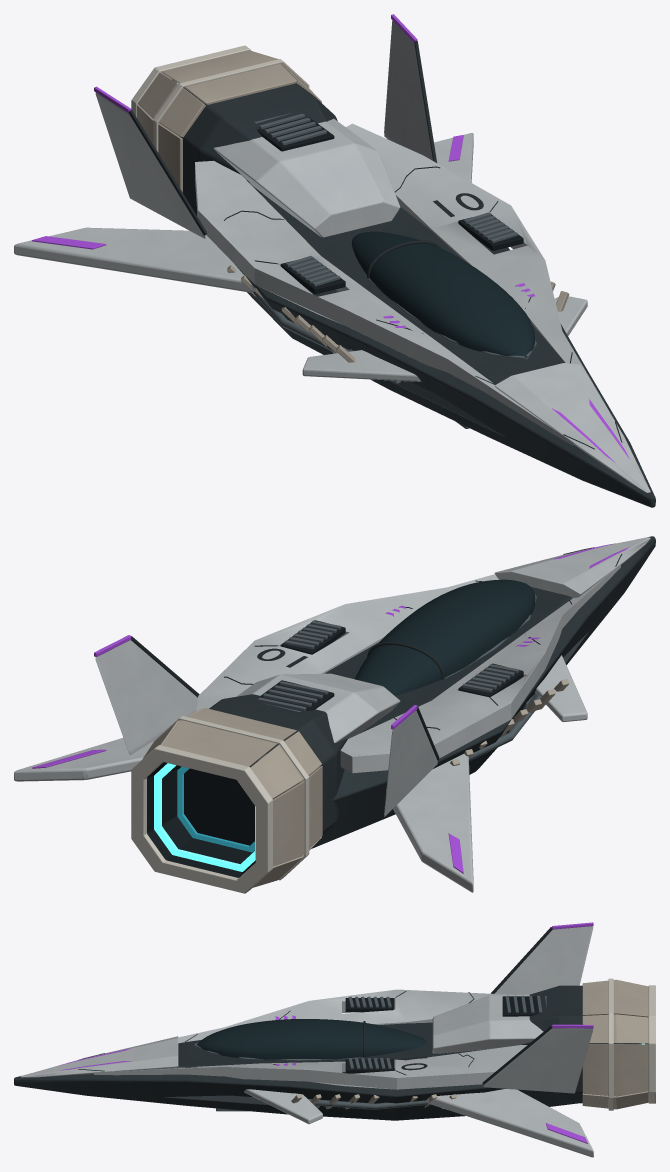
File: needle.glb
3 renders of one model, top to bottom at view 1: azimuth 30°, elevation 25°; view 2: azimuth 150°, elevation 25°; view 3: azimuth 270°, elevation 25°, orthographic. The views are drawn at different scales.
Visible parts, largest first — view 1: needle_Ceramic_Geometry, needle_carbon_Geometry, needle_Glass_Geometry, needle_metal_Geometry, needle_darkmetal_Geometry, needle_edge_Geometry, needle_machined_Geometry, needle_vent_Geometry, needle_accent_Geometry; view 2: needle_Ceramic_Geometry, needle_carbon_Geometry, needle_metal_Geometry, needle_Glass_Geometry, needle_vent_Geometry, needle_machined_Geometry, needle_darkmetal_Geometry, needle_Power_Geometry, needle_accent_Geometry, needle_edge_Geometry, needle_Standby_Geometry; view 3: needle_Ceramic_Geometry, needle_carbon_Geometry, needle_metal_Geometry, needle_Glass_Geometry, needle_darkmetal_Geometry, needle_machined_Geometry, needle_vent_Geometry, needle_edge_Geometry, needle_accent_Geometry.
Part boxes in pixels (bbox=[...]): needle_Ceramic_Geometry: bbox=[14, 20, 650, 492]; needle_carbon_Geometry: bbox=[160, 83, 655, 507]; needle_Glass_Geometry: bbox=[351, 231, 535, 358]; needle_metal_Geometry: bbox=[137, 50, 569, 362]; needle_darkmetal_Geometry: bbox=[253, 113, 536, 436]; needle_edge_Geometry: bbox=[128, 41, 622, 449]; needle_machined_Geometry: bbox=[131, 45, 309, 152]; needle_vent_Geometry: bbox=[172, 79, 523, 294]; needle_accent_Geometry: bbox=[32, 14, 629, 462]; needle_Ceramic_Geometry: bbox=[14, 537, 650, 892]; needle_carbon_Geometry: bbox=[209, 536, 655, 848]; needle_metal_Geometry: bbox=[143, 679, 569, 887]; needle_Glass_Geometry: bbox=[355, 579, 535, 695]; needle_vent_Geometry: bbox=[147, 620, 523, 877]; needle_machined_Geometry: bbox=[131, 715, 309, 893]; needle_darkmetal_Geometry: bbox=[257, 581, 589, 761]; needle_Power_Geometry: bbox=[154, 763, 255, 871]; needle_accent_Geometry: bbox=[32, 543, 629, 873]; needle_edge_Geometry: bbox=[131, 547, 622, 760]; needle_Standby_Geometry: bbox=[177, 766, 254, 852]; needle_Ceramic_Geometry: bbox=[20, 926, 593, 1157]; needle_carbon_Geometry: bbox=[14, 985, 623, 1120]; needle_metal_Geometry: bbox=[291, 979, 648, 1109]; needle_Glass_Geometry: bbox=[196, 1019, 426, 1060]; needle_darkmetal_Geometry: bbox=[164, 995, 546, 1111]; needle_machined_Geometry: bbox=[608, 978, 655, 1110]; needle_vent_Geometry: bbox=[345, 996, 648, 1073]; needle_edge_Geometry: bbox=[78, 927, 552, 1084]; needle_accent_Geometry: bbox=[59, 922, 593, 1143].
Size of the model in its own units: 4.08 by 1.48 by 6.99.
Materials: 11 (4 with a texture image).
